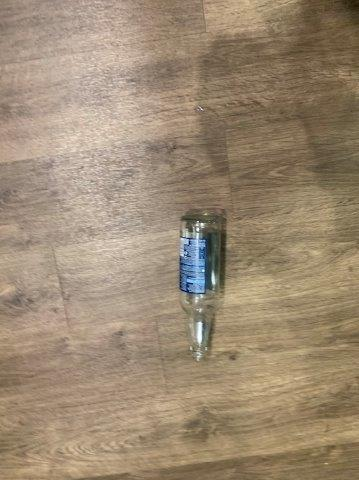botolkaca: (178, 214, 225, 360)
